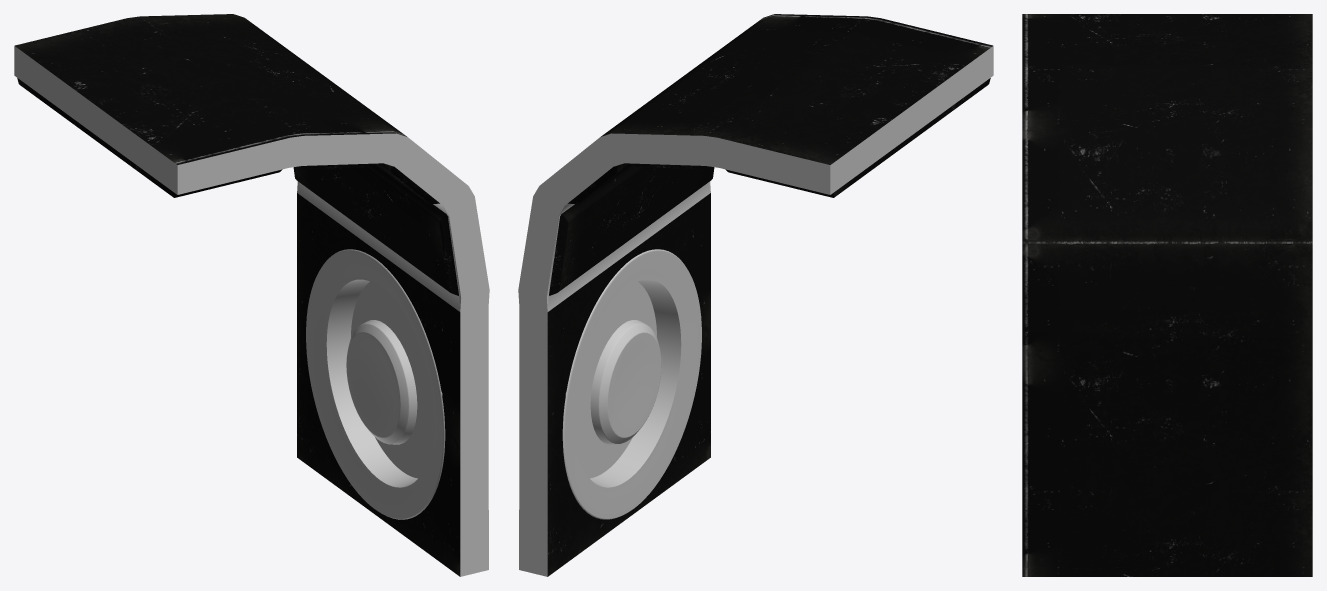
The model's file is SM_TunnelWall_B.FBX.
3 views of the same model, side by side, from view 1: azimuth 30°, elevation 25°; view 2: azimuth 150°, elevation 25°; view 3: azimuth 270°, elevation 25° (orthographic). The views are drawn at different scales.
Parts seen in each view (by area): view 1: SM_TunnelWall_B; view 2: SM_TunnelWall_B; view 3: SM_TunnelWall_B.
Boxes of the visible parts, box(x1,y1,x2,y2) form: SM_TunnelWall_B: box(14, 14, 489, 576); SM_TunnelWall_B: box(518, 14, 993, 576); SM_TunnelWall_B: box(1022, 14, 1312, 576).
Size of the model in its own units: 442 by 650 by 400.
